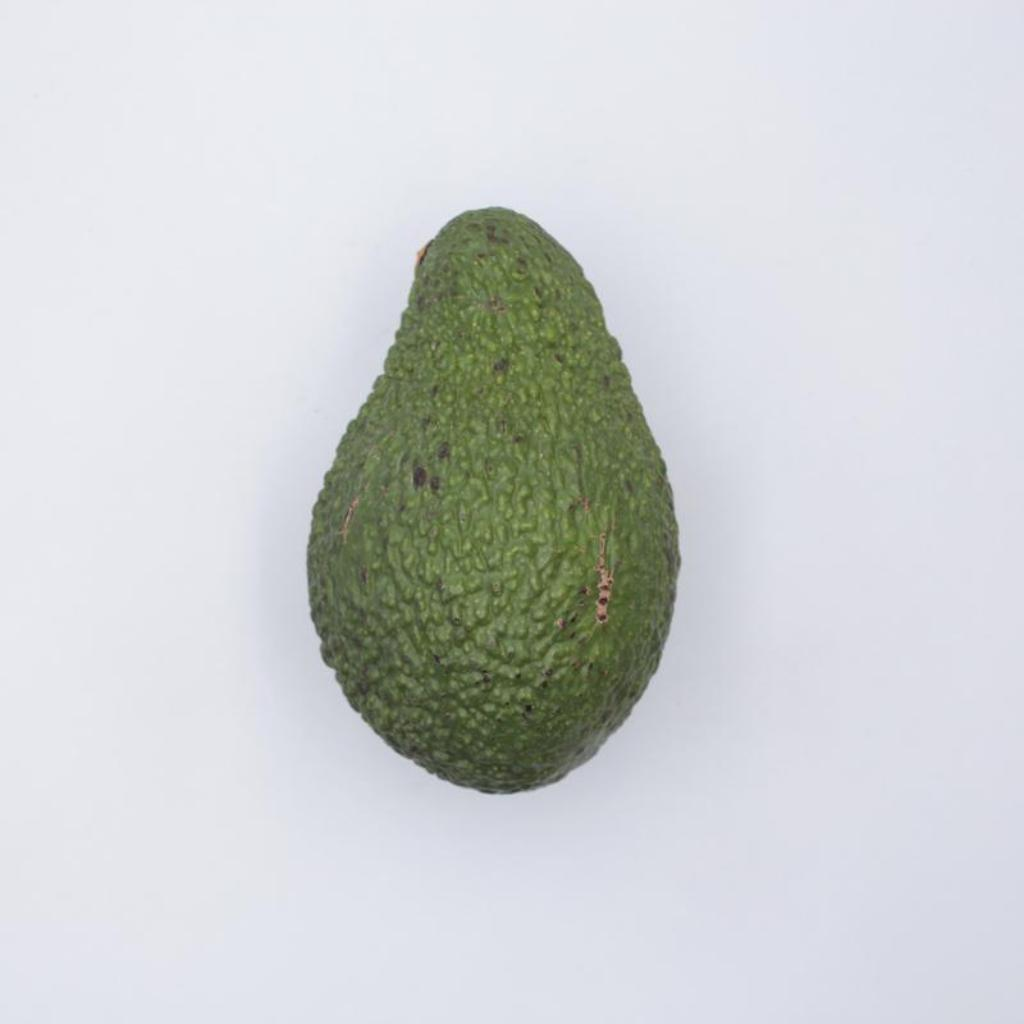scab: (307, 207, 678, 792)
